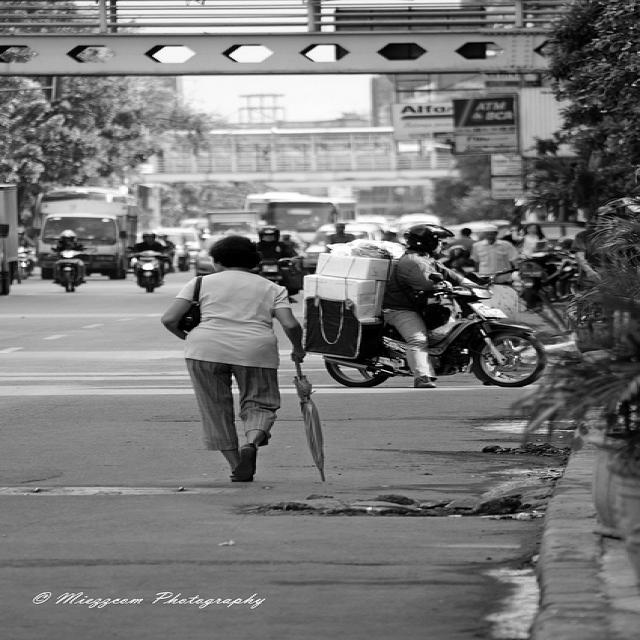motor: (317, 270, 537, 389), (516, 249, 568, 306), (249, 257, 304, 304), (45, 250, 90, 293), (129, 252, 170, 294), (14, 244, 31, 284)
